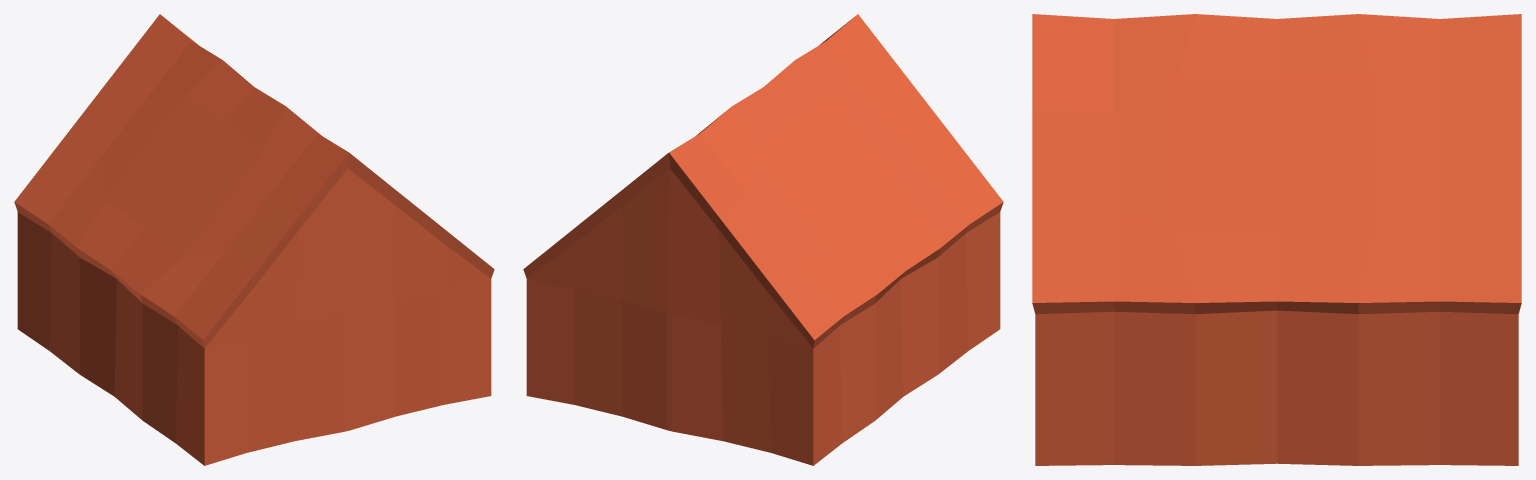
Rendered from tent-medik.fbx.
3 renders of one model, left to right at view 1: azimuth 30°, elevation 25°; view 2: azimuth 150°, elevation 25°; view 3: azimuth 270°, elevation 25°, orthographic. The views are drawn at different scales.
Parts seen in each view (by area): view 1: tent-medik; view 2: tent-medik; view 3: tent-medik.
Part boxes in pixels (x1,y1,x2,y2): tent-medik: (14,14,494,465); tent-medik: (523,14,1003,465); tent-medik: (1032,14,1521,465).
Bounding box in the file's own units: 3 × 2.75 × 3.38.
